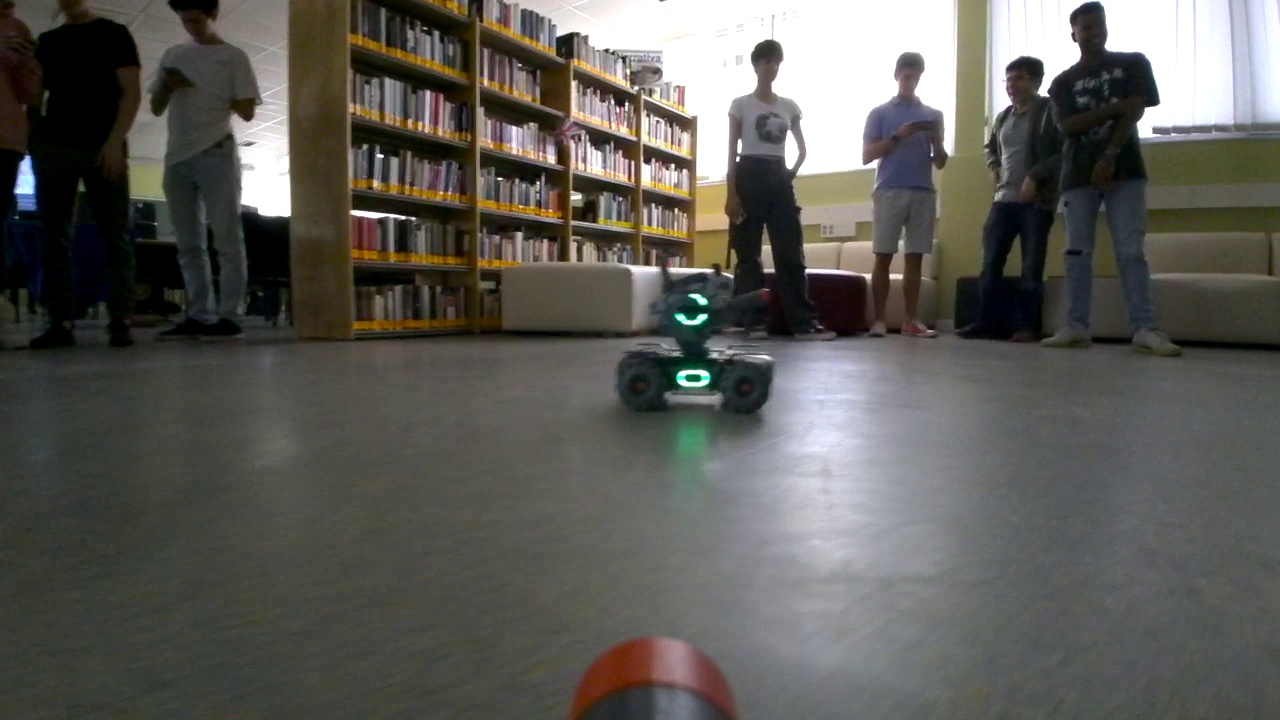robot: (612, 269, 778, 419)
